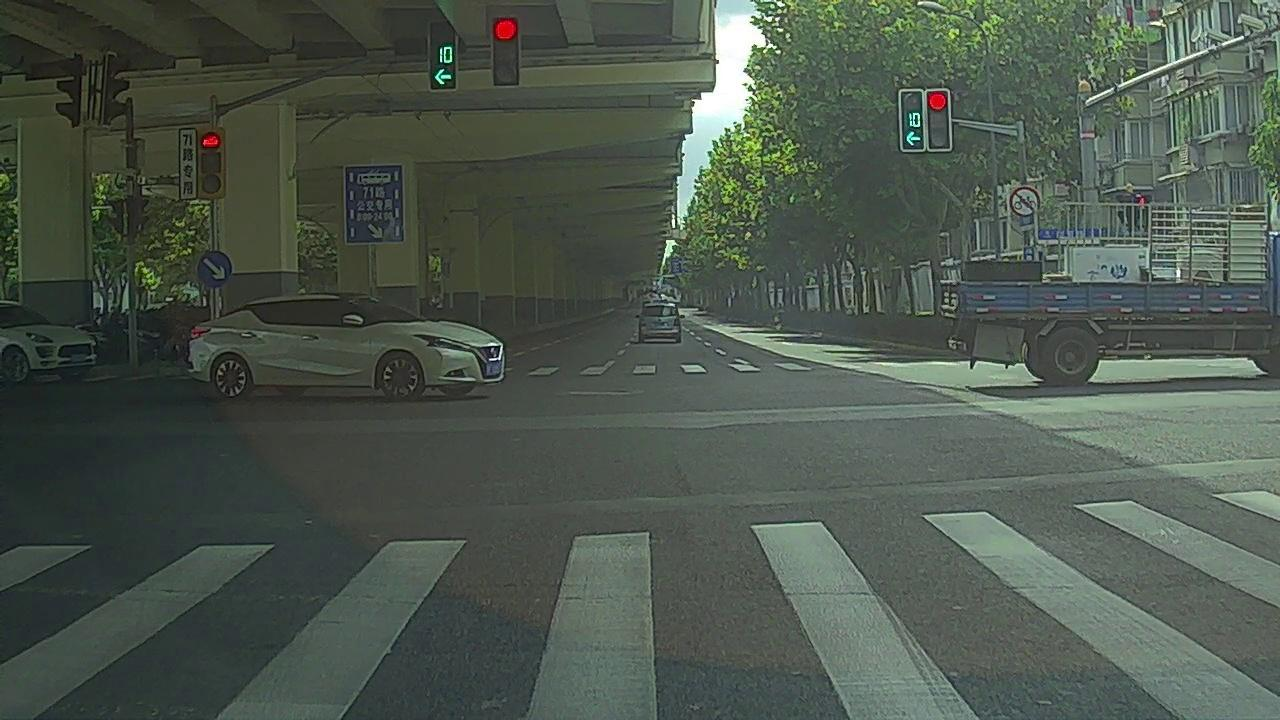traffic_light: (429, 21, 455, 90), (494, 15, 519, 85)
